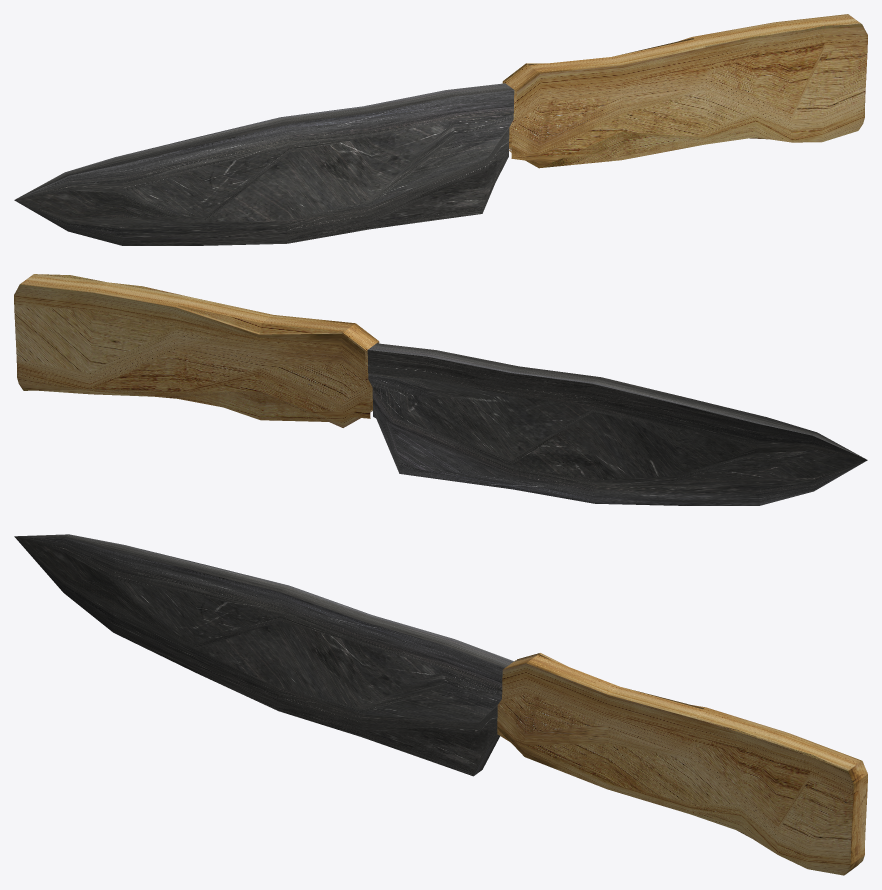
File: knife.obj
The picture shows the model from 3 angles, top to bottom: view 1: azimuth 30°, elevation 25°; view 2: azimuth 150°, elevation 25°; view 3: azimuth 330°, elevation 25°; orthographic projection.
Visible parts, largest first — view 1: knife; view 2: knife; view 3: knife.
Boxes of the visible parts, bbox=[...] form: knife: bbox=[14, 14, 867, 245]; knife: bbox=[14, 274, 867, 505]; knife: bbox=[14, 534, 867, 875].
Bounding box in the file's own units: 1075 × 177 × 31.37.
Materials: 2 (2 with a texture image).
